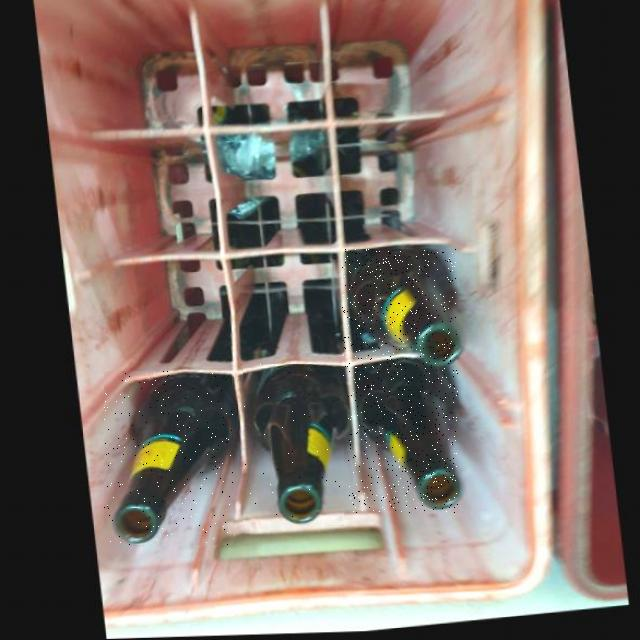glass: (105, 372, 233, 545), (349, 360, 458, 513), (243, 365, 344, 526), (342, 250, 457, 369)
